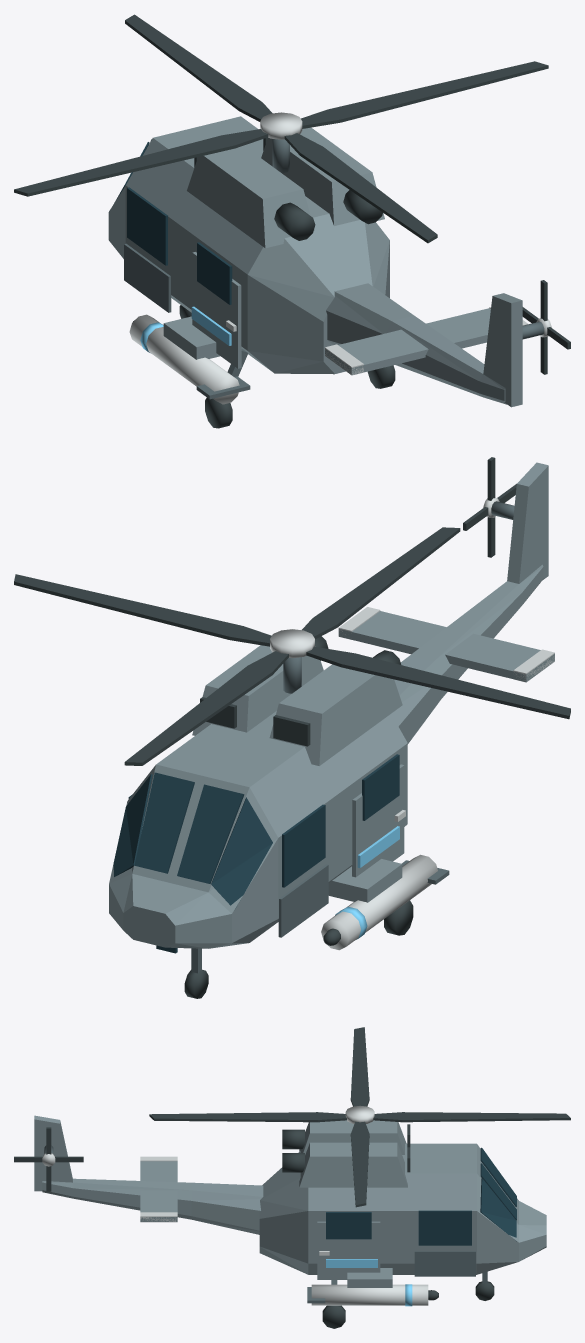
The model's file is HEL_PlayerAsw_T2.fbx.
3 views of the same model, one above another, from view 1: azimuth 30°, elevation 25°; view 2: azimuth 150°, elevation 25°; view 3: azimuth 270°, elevation 25° (orthographic). The views are drawn at different scales.
Visible parts, largest first — view 1: NavalCabin, TailBoom, TwinEngineCowling, HorizontalTailplane, TailFin, MainRotorBlade_03, MainRotorBlade_01, TwinEngineCowling.001, MainRotorBlade_04, MainRotorBlade_02, AirDroppedTorpedo, CabinDoor (+11 smaller); view 2: NavalCabin, TwinEngineCowling, TailBoom, HorizontalTailplane, TailFin, MainRotorBlade_03, MainRotorBlade_01, ForwardWindshield.001, ForwardWindshield, MainRotorBlade_02, MainRotorBlade_04, TwinEngineCowling.001 (+11 smaller); view 3: NavalCabin, TailBoom, TwinEngineCowling.001, CabinDoor.001, AirDroppedTorpedo.001, PilotSideWindow.001, TwinEngineCowling, HorizontalTailplane, TailFin, MainRotorBlade_02, MainRotorBlade_04, PilotDoorLower.001 (+12 smaller).
Boxes of the visible parts, x1,y1,x2,y2 form: NavalCabin: (108, 116, 389, 374); TailBoom: (326, 283, 506, 404); TwinEngineCowling: (187, 145, 314, 248); HorizontalTailplane: (325, 308, 490, 375); TailFin: (483, 293, 522, 407); MainRotorBlade_03: (14, 129, 268, 196); MainRotorBlade_01: (301, 61, 548, 128); TwinEngineCowling.001: (261, 127, 384, 225); MainRotorBlade_04: (284, 133, 437, 243); MainRotorBlade_02: (125, 14, 272, 121); AirDroppedTorpedo: (129, 314, 239, 404); CabinDoor: (192, 252, 241, 368); NavalCabin: (109, 711, 407, 948); TwinEngineCowling: (269, 664, 402, 765); TailBoom: (391, 564, 543, 744); HorizontalTailplane: (338, 611, 554, 682); TailFin: (507, 462, 548, 583); MainRotorBlade_03: (306, 646, 570, 719); MainRotorBlade_01: (14, 574, 271, 646); ForwardWindshield.001: (134, 772, 194, 873); ForwardWindshield: (177, 784, 244, 883); MainRotorBlade_02: (124, 651, 288, 765); MainRotorBlade_04: (302, 527, 460, 639); TwinEngineCowling.001: (192, 645, 323, 735); NavalCabin: (259, 1143, 546, 1274); TailBoom: (42, 1178, 263, 1234); TwinEngineCowling.001: (299, 1142, 407, 1187); CabinDoor.001: (317, 1221, 380, 1279); AirDroppedTorpedo.001: (311, 1284, 428, 1305); PilotSideWindow.001: (418, 1210, 471, 1245); TwinEngineCowling: (299, 1120, 406, 1154); HorizontalTailplane: (140, 1161, 177, 1221); TailFin: (34, 1115, 72, 1191); MainRotorBlade_02: (373, 1112, 570, 1122); MainRotorBlade_04: (149, 1112, 346, 1122); PilotDoorLower.001: (414, 1251, 475, 1276).
Size of the model in its own units: 260 by 128 by 343.
